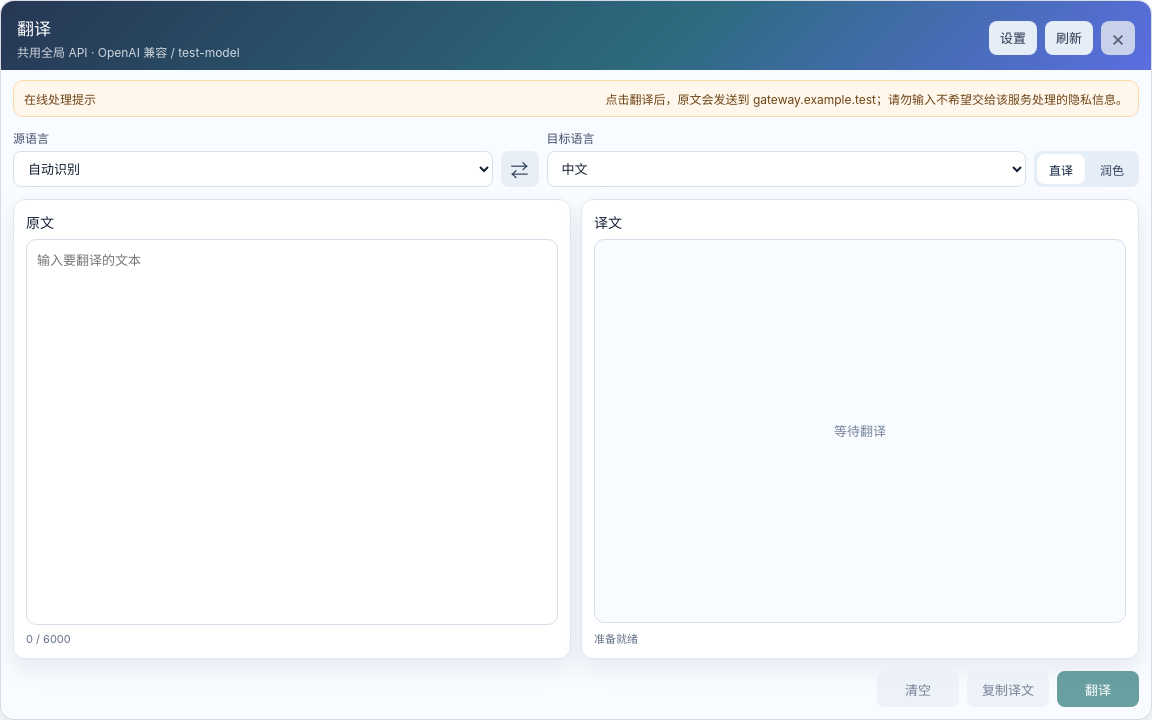
Test: TranslatorWindow › cancels transport and shows a safe cancellation result without losing the input
Step 1. Type "保留原文" into the text box labelled "原文 0 / 6000" → (292, 432), box [26, 239, 558, 625]
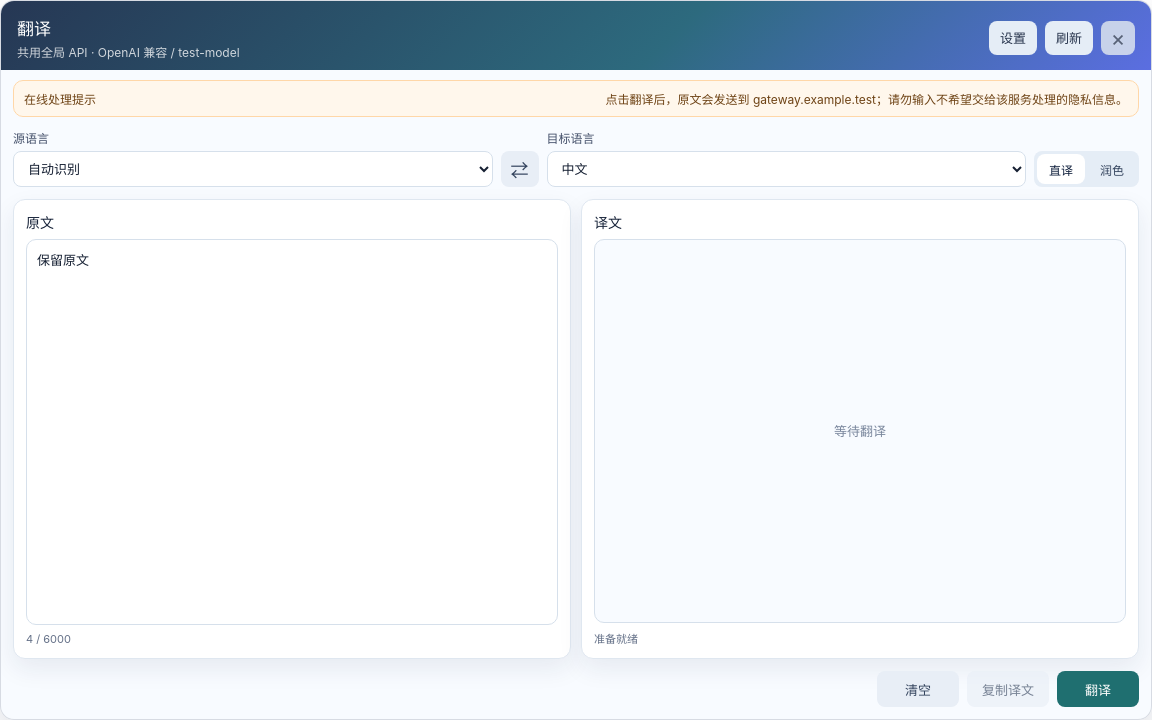
Step 2. Click the button with class "translator-primary-button" → (1098, 689), box [1057, 671, 1139, 707]
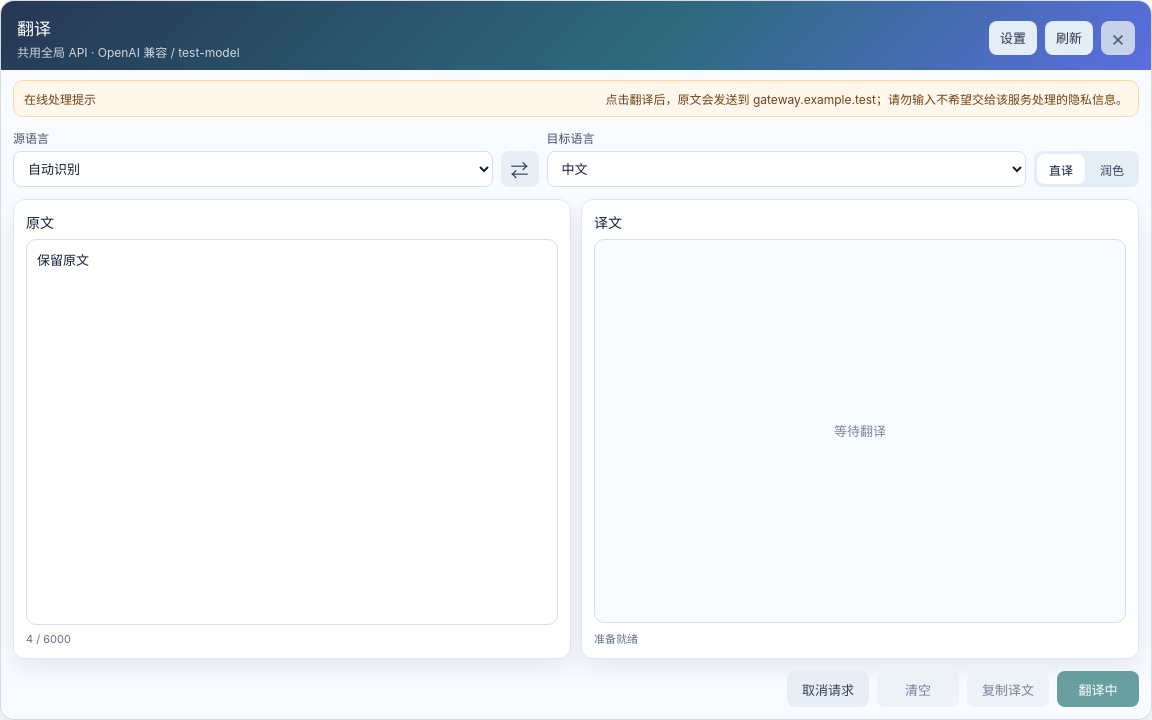
Step 3. Click the button "取消请求" → (828, 689), box [787, 671, 869, 707]
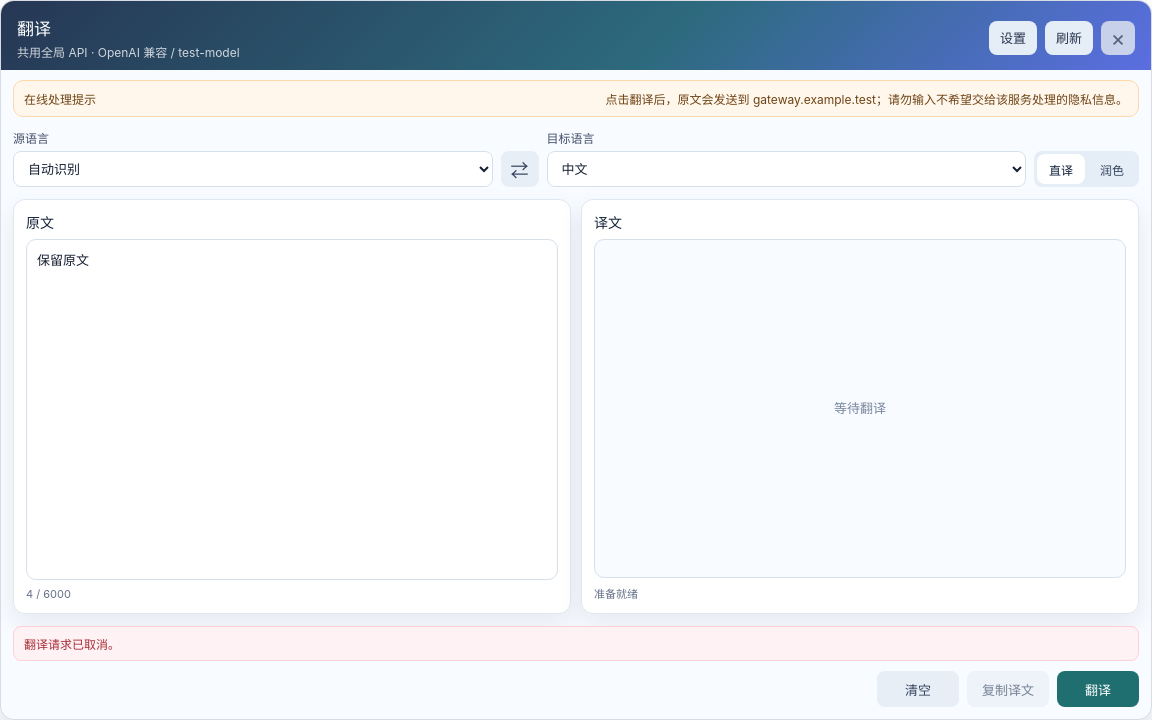
Check: the message with class "translator-error" shows "已取消", box [13, 626, 1139, 661]
